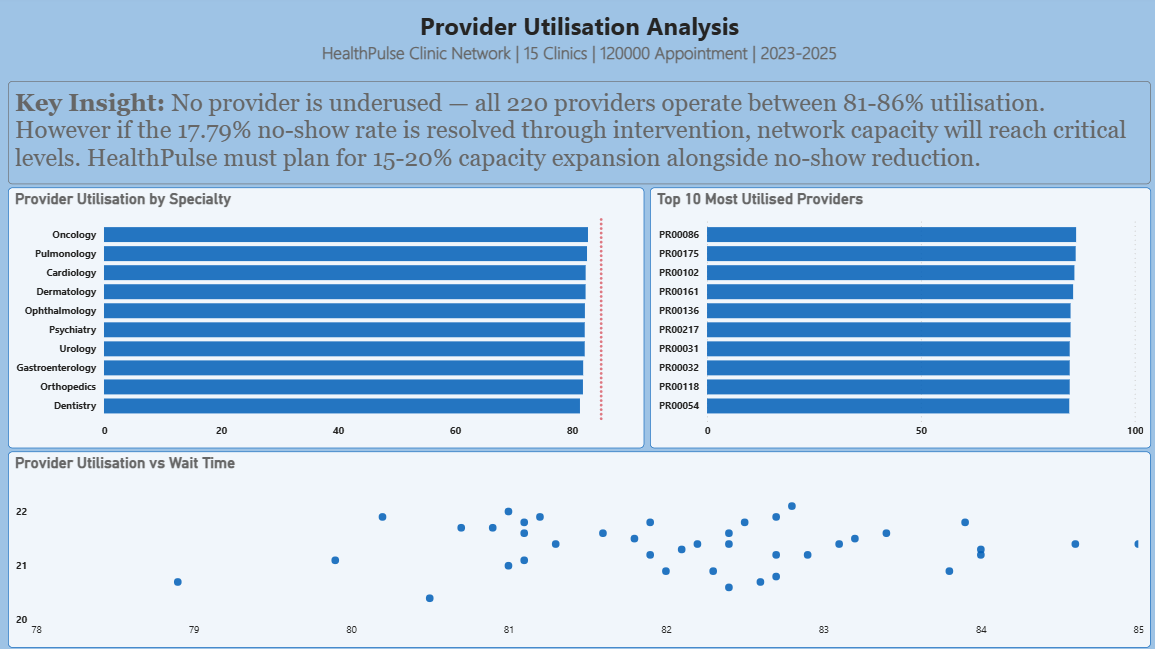

What the dashboard file says about the page in this screenshot:
{"tool":"powerbi","page":{"name":"Provider Utilisation","canvas":[1280,720],"ordinal":2},"visuals":[{"type":"clusteredBarChart","title":"Provider Utilisation by Specialty","fields":{"Y":["Avg(Provider utilisation.utilisation_pct)"],"Category":["Provider utilisation.specialty"]},"box":[9.9,207.1,702.3,288.2],"z":0},{"type":"scatterChart","title":"Provider Utilisation vs Wait Time","fields":{"X":["Sum(Provider utilisation.utilisation_pct)"],"Y":["Sum(Provider utilisation.avg_wait_time)"],"Category":["Provider utilisation.provider_id"]},"box":[9.9,498.6,1262.2,217],"z":1000},{"type":"clusteredBarChart","title":"Top 10 Most Utilised Providers","fields":{"Category":["Provider utilisation.provider_id"],"Y":["Sum(Provider utilisation.utilisation_pct)"]},"box":[718.9,207.1,553.3,288.2],"z":2000},{"type":"textbox","box":[9.9,89.4,1262.2,114.3],"z":3000},{"type":"textbox","box":[9.9,5,1262.2,81.2],"z":4000}]}

Visuals, with their boxes in screenshot pixels (x1, y1, x2, y2), scaled from the page's 1280x720 canvas onto the 1155x649 screenshot:
"Provider Utilisation by Specialty" clusteredBarChart: box(9, 187, 643, 446)
"Provider Utilisation vs Wait Time" scatterChart: box(9, 449, 1148, 645)
"Top 10 Most Utilised Providers" clusteredBarChart: box(649, 187, 1148, 446)
textbox: box(9, 81, 1148, 184)
textbox: box(9, 5, 1148, 78)
